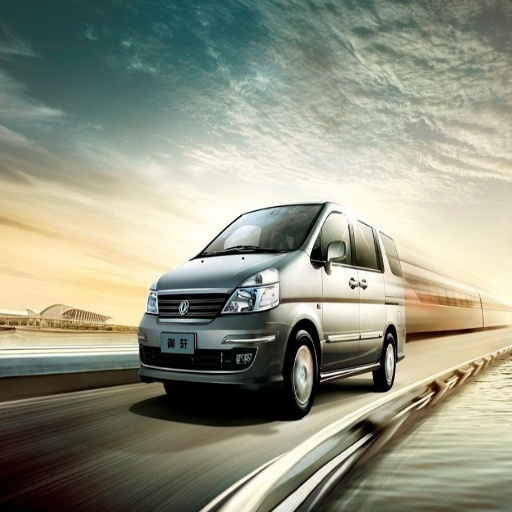front_bumper: (138, 288, 292, 384)
front_glass: (199, 206, 322, 257)
front_left_door: (314, 207, 361, 360)
trunk: (388, 276, 415, 327)
